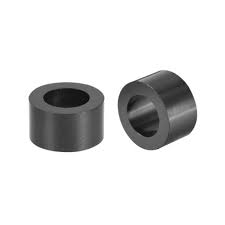No thread: (120, 88, 166, 144), (39, 84, 96, 113)
